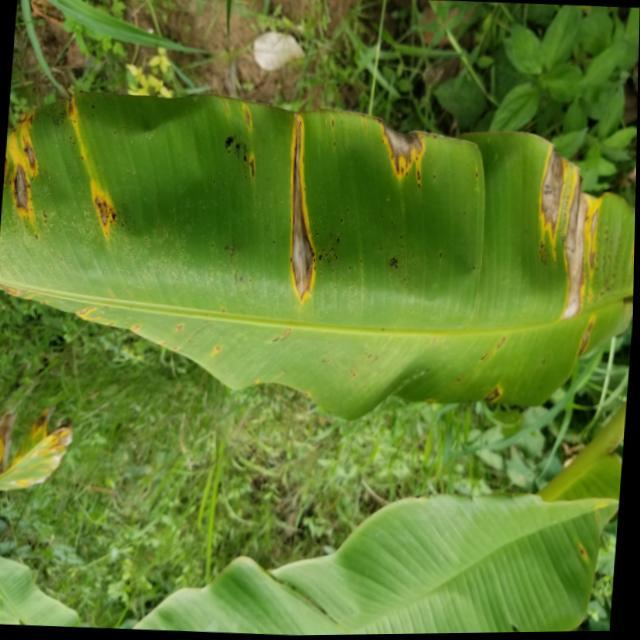Early_rust: (0, 81, 640, 397), (0, 409, 88, 497)
